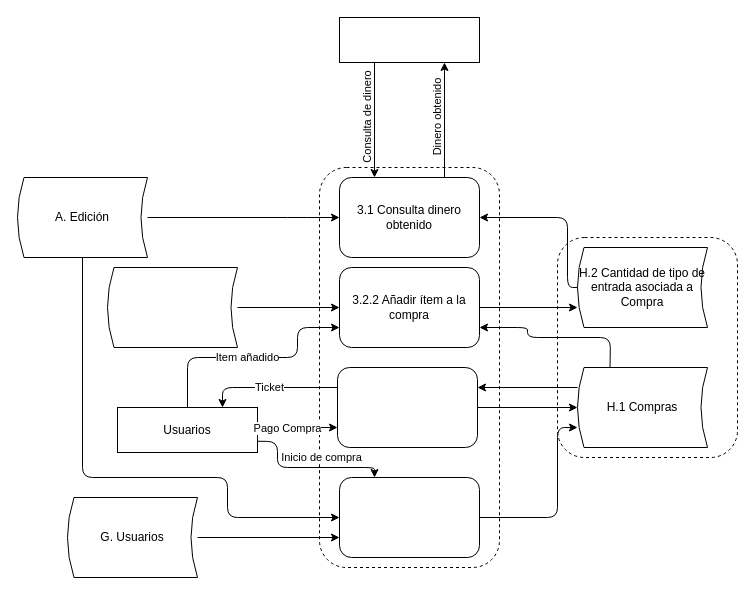
The diagram is 755 pixels wide and 595 high, and some of its shapes have lost their labels. Here are the shapes that lost their labels. From the top down, the centre of each, then its label:
[409,39]: Gestor del Torneo
[172,307]: D. Tipo de Entrada
[407,407]: 3.2.3 Pagar Compra
[409,517]: 3.2.1 Iniciar Compra
